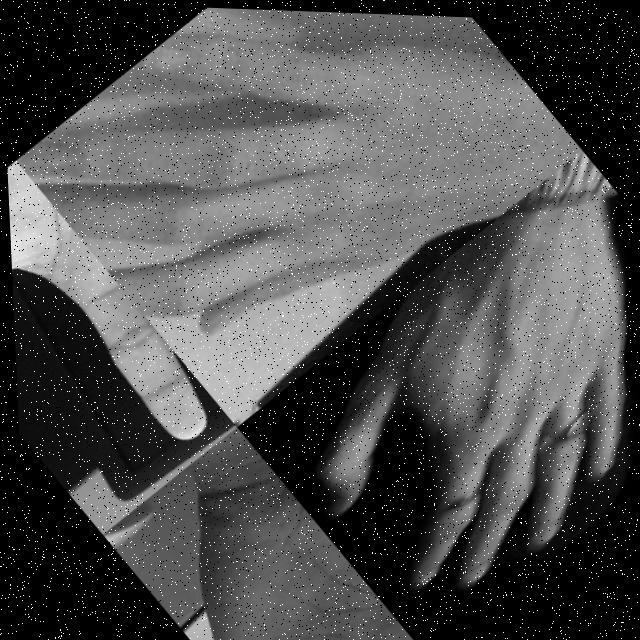no-gloves: (9, 0, 592, 436), (237, 142, 640, 640), (6, 160, 238, 537), (120, 452, 434, 640)
